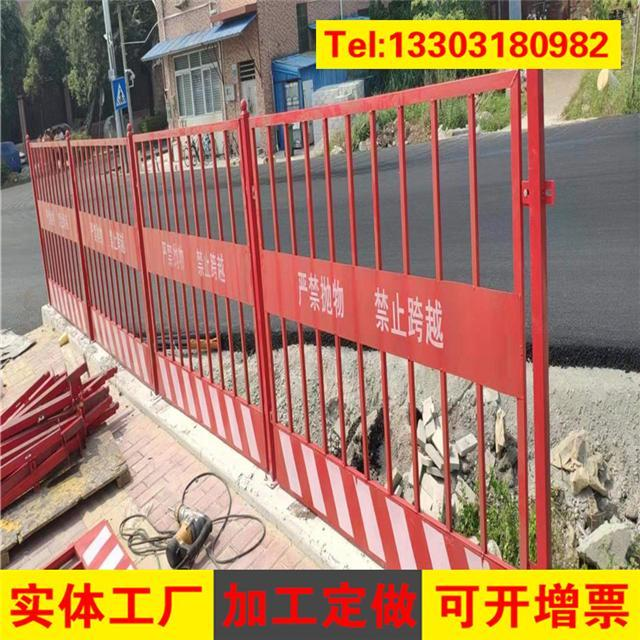sign: (25, 94, 588, 561)
